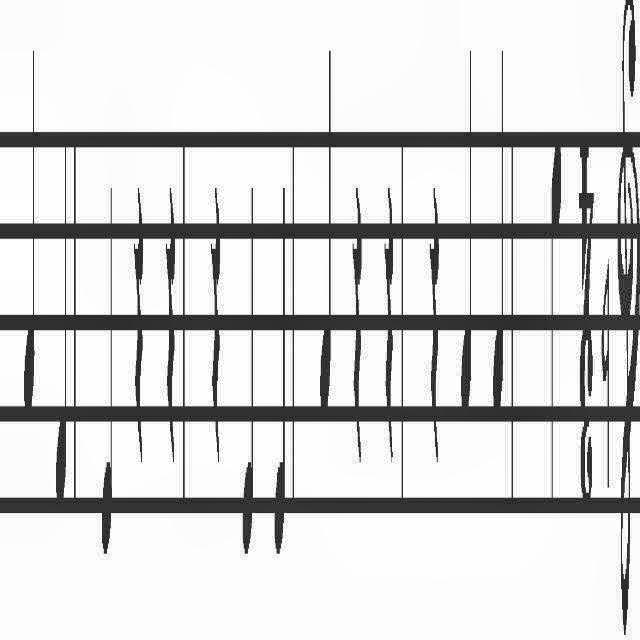Bass-clef: (614, 0, 640, 640)
Bemol: (598, 260, 614, 516)
Quarter-note: (548, 135, 568, 532), (317, 46, 335, 430), (100, 158, 116, 574), (272, 186, 288, 574), (460, 50, 476, 424), (241, 177, 255, 598), (492, 66, 508, 414), (23, 56, 37, 440), (55, 126, 67, 538)
Quarter-rest: (132, 167, 148, 508), (209, 164, 223, 496), (351, 171, 365, 499), (382, 183, 396, 477), (166, 158, 177, 490), (428, 193, 440, 483)
